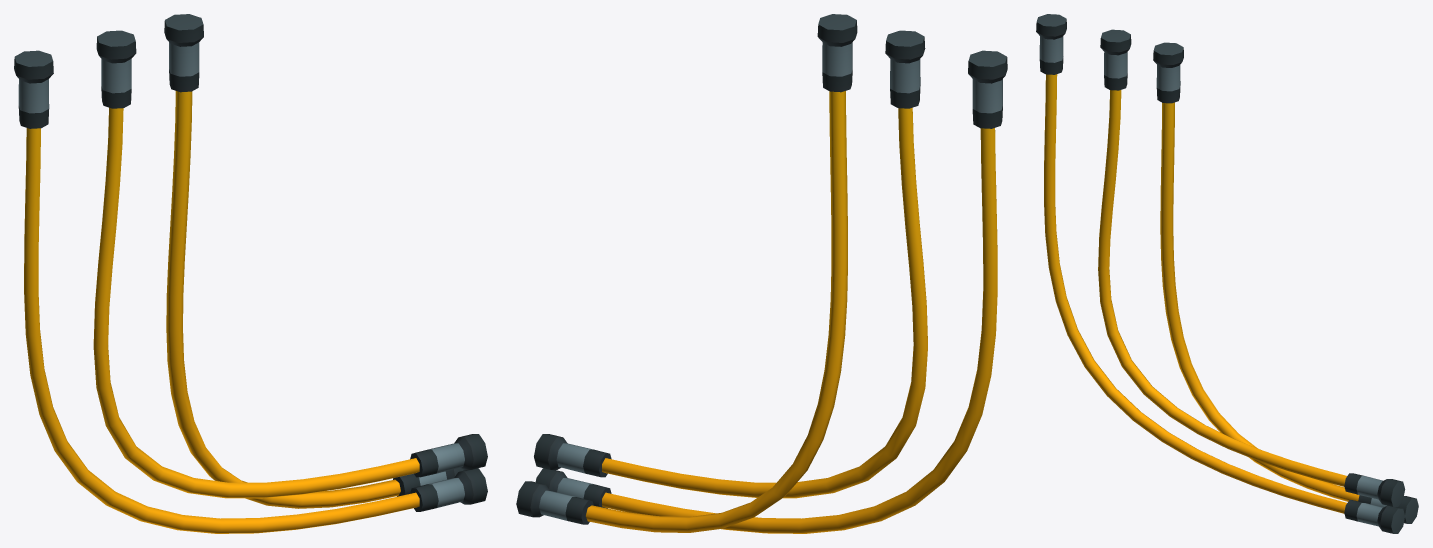
The model's file is Cable_type_C_009.glb.
3 renders of one model, left to right at view 1: azimuth 30°, elevation 25°; view 2: azimuth 150°, elevation 25°; view 3: azimuth 330°, elevation 25°, orthographic. The views are drawn at different scales.
Parts seen in each view (by area): view 1: Cable_type_C_009; view 2: Cable_type_C_009; view 3: Cable_type_C_009.
Boxes of the visible parts, <box> form: Cable_type_C_009: <box>14,14,487,533</box>; Cable_type_C_009: <box>516,14,1007,533</box>; Cable_type_C_009: <box>1036,14,1418,533</box>.
Size of the model in its own units: 1.16 by 1.32 by 0.1595.
Materials: 1 (1 with a texture image).
